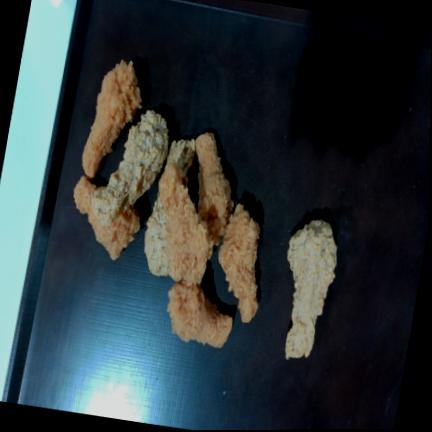chicken: (93, 110, 169, 225), (285, 221, 336, 359), (82, 60, 141, 178), (159, 163, 212, 285), (74, 176, 139, 259), (219, 203, 260, 322), (195, 132, 233, 245), (167, 282, 233, 347), (144, 192, 168, 276), (167, 140, 194, 185)
